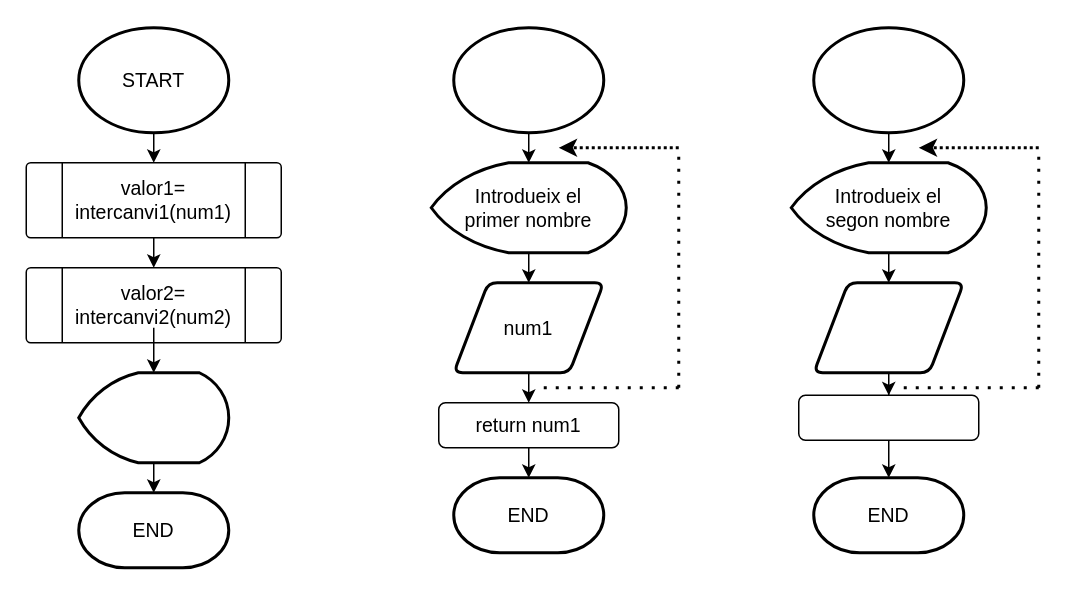
This 1079x594 diagram has some shape labels left out. Each missing label, with the box of its shape:
intercanvi1 (num1): (452, 26, 604, 134)
intercanvi2 (num2): (812, 26, 964, 134)
num2: (812, 280, 964, 374)
return num2: (797, 394, 979, 440)
valor2, valor1: (76, 370, 230, 464)
